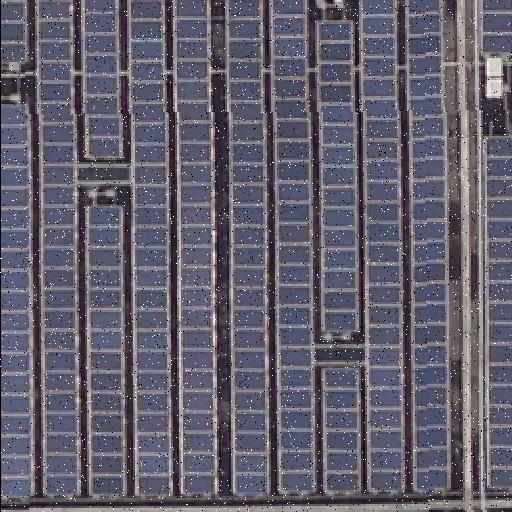solar-panel: (268, 0, 316, 492), (173, 1, 219, 495), (357, 0, 403, 488), (405, 0, 451, 488), (34, 0, 78, 496), (128, 1, 172, 495), (226, 0, 270, 492), (0, 104, 36, 496), (314, 21, 358, 331), (83, 204, 125, 496), (480, 134, 512, 490), (80, 0, 124, 160), (319, 366, 361, 490), (0, 0, 28, 64), (480, 1, 512, 55)
